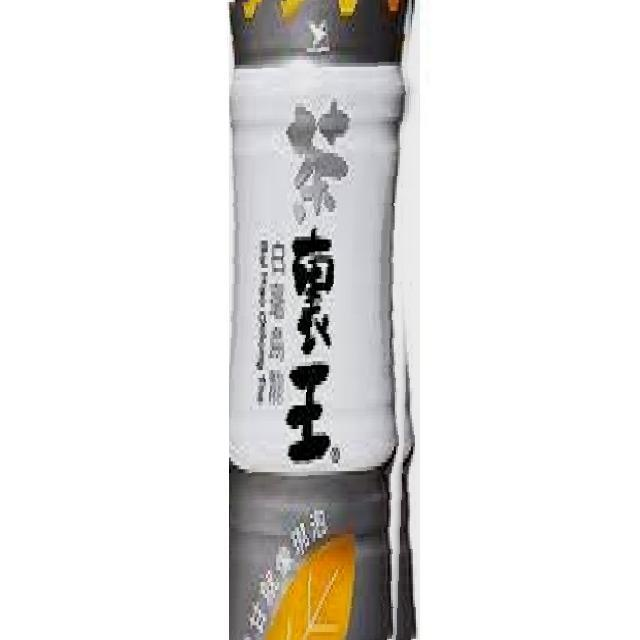ChaLiWong_WhiteOolong: (229, 0, 420, 640)
